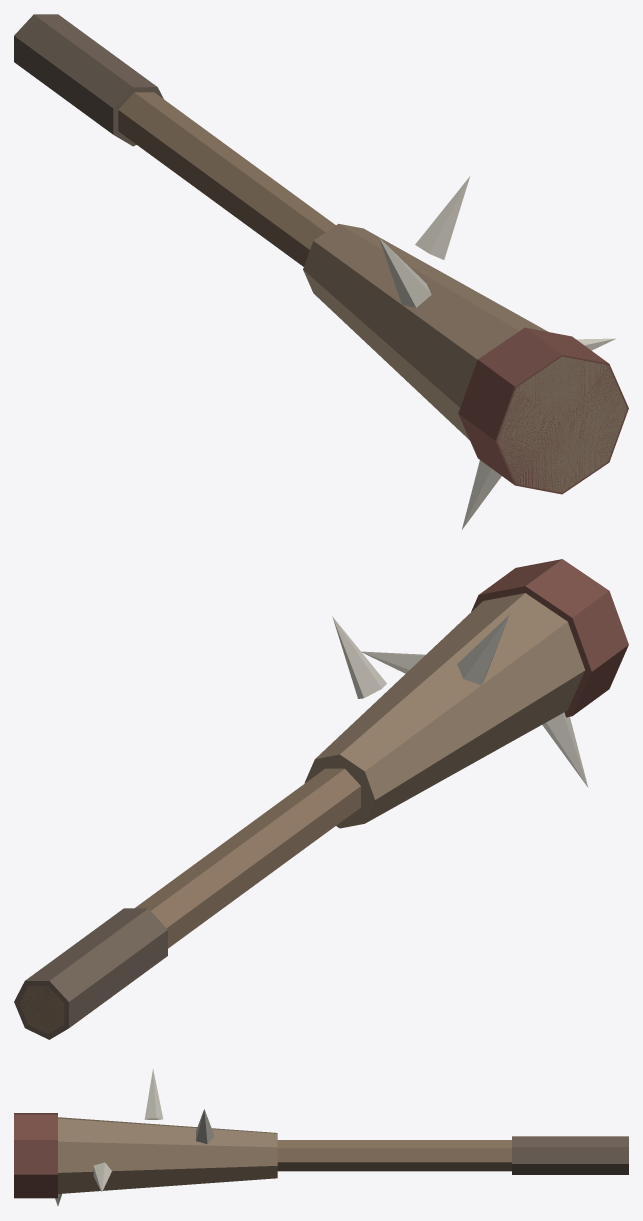
Rendered from club_bone.glb.
The picture shows the model from 3 angles, top to bottom: view 1: azimuth 30°, elevation 25°; view 2: azimuth 150°, elevation 25°; view 3: azimuth 270°, elevation 25°; orthographic projection. The views are drawn at different scales.
Visible parts, largest first — view 1: geometry_0; view 2: geometry_0; view 3: geometry_0.
Part boxes in pixels (<box>): geometry_0: <box>14,14,628,529</box>; geometry_0: <box>14,559,628,1039</box>; geometry_0: <box>14,1068,628,1206</box>.
Size of the model in its own units: 0.182 by 0.2082 by 0.84.
